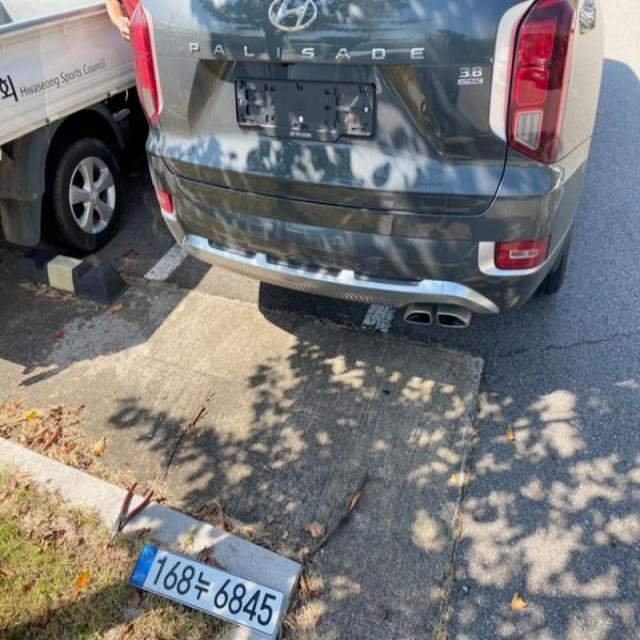illegal_plate: (131, 538, 290, 639)
